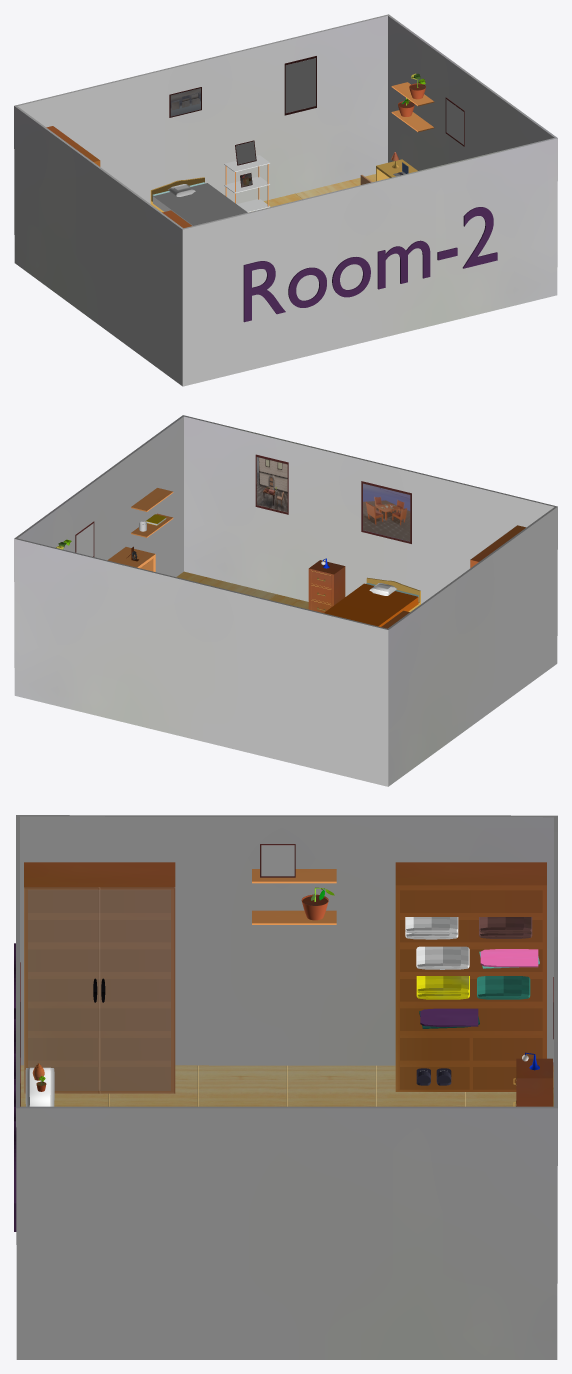
Rendered from room2.obj.
3 renders of one model, top to bottom at view 1: azimuth 30°, elevation 25°; view 2: azimuth 150°, elevation 25°; view 3: azimuth 270°, elevation 25°, orthographic. The views are drawn at different scales.
Parts seen in each view (by area): view 1: obj22, obj4, obj25, obj69, obj3, obj40, obj41, obj67, obj71, obj74; view 2: obj22, obj63, obj29, obj13, obj65, obj40, obj41, obj12, obj38, obj71; view 3: obj22, obj38, obj39, obj16, obj40, obj57, obj11, obj32, obj33, obj31, obj36, obj1 (+5 smaller).
Boxes of the visible parts, x1,y1,x2,y2 form: obj22: [14, 14, 557, 386]; obj4: [243, 207, 497, 322]; obj25: [153, 183, 247, 225]; obj69: [285, 58, 315, 113]; obj3: [224, 155, 270, 212]; obj40: [264, 174, 375, 206]; obj41: [391, 82, 434, 132]; obj67: [170, 88, 200, 116]; obj71: [446, 99, 463, 144]; obj74: [376, 159, 417, 181]; obj22: [14, 415, 557, 786]; obj63: [363, 483, 410, 541]; obj29: [324, 583, 418, 626]; obj13: [308, 560, 345, 612]; obj65: [256, 457, 287, 512]; obj40: [176, 571, 308, 609]; obj41: [131, 488, 173, 537]; obj12: [107, 547, 155, 571]; obj38: [470, 525, 525, 567]; obj71: [76, 523, 93, 556]; obj22: [16, 815, 557, 1359]; obj38: [24, 862, 175, 1093]; obj39: [24, 887, 174, 1093]; obj16: [395, 862, 546, 1091]; obj40: [20, 1065, 553, 1106]; obj57: [252, 869, 336, 924]; obj11: [516, 1058, 552, 1106]; obj32: [416, 976, 469, 999]; obj33: [416, 946, 469, 969]; obj31: [477, 976, 530, 999]; obj36: [405, 917, 458, 939]; obj1: [419, 1008, 479, 1028].
Size of the model in its own units: 8.45 by 3.38 by 6.62.
